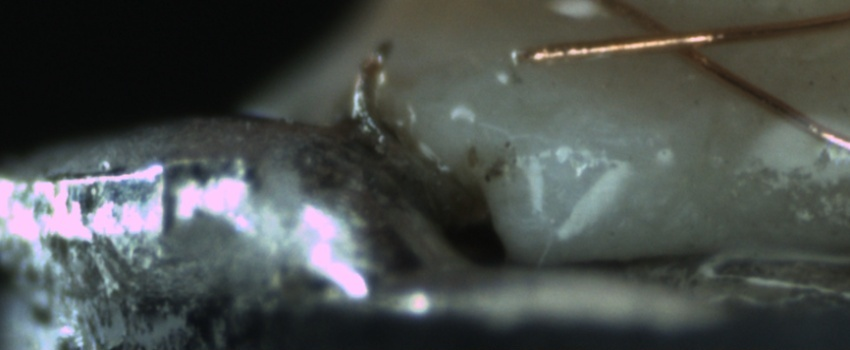CL: (615, 17, 737, 72)
